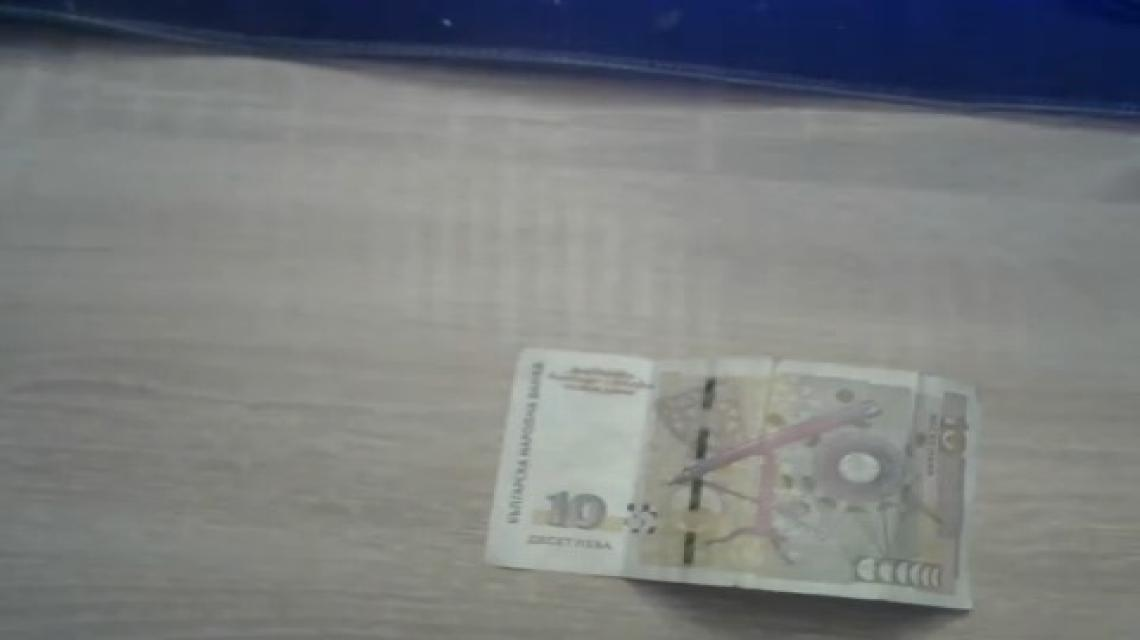10leva: (484, 350, 983, 613)
